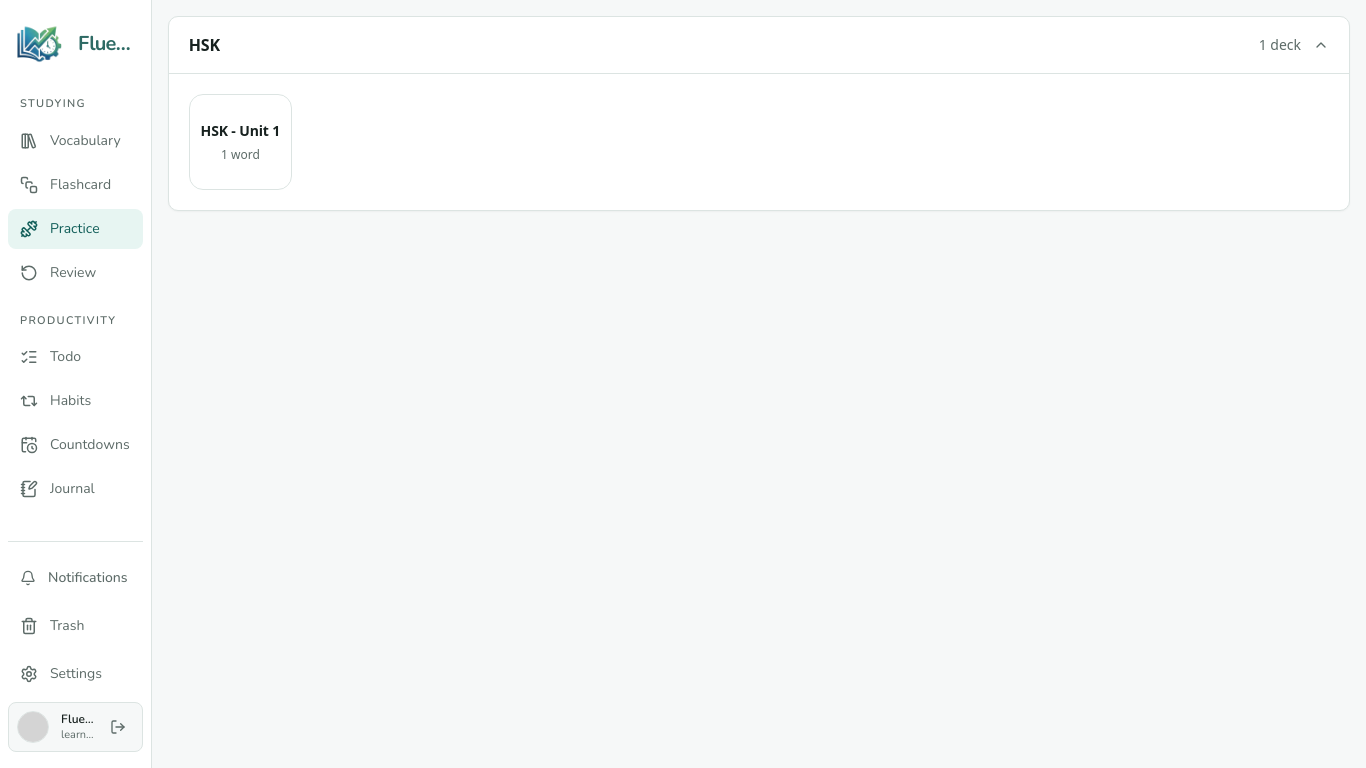
Test: FluentA app routes › opens the modal-first Practice flow and starts the selected deck directly
Click the button with aria-label "Practice HSK - Unit 1, 1 words".
click(240, 142)  # box left=189, top=94, right=292, bottom=190
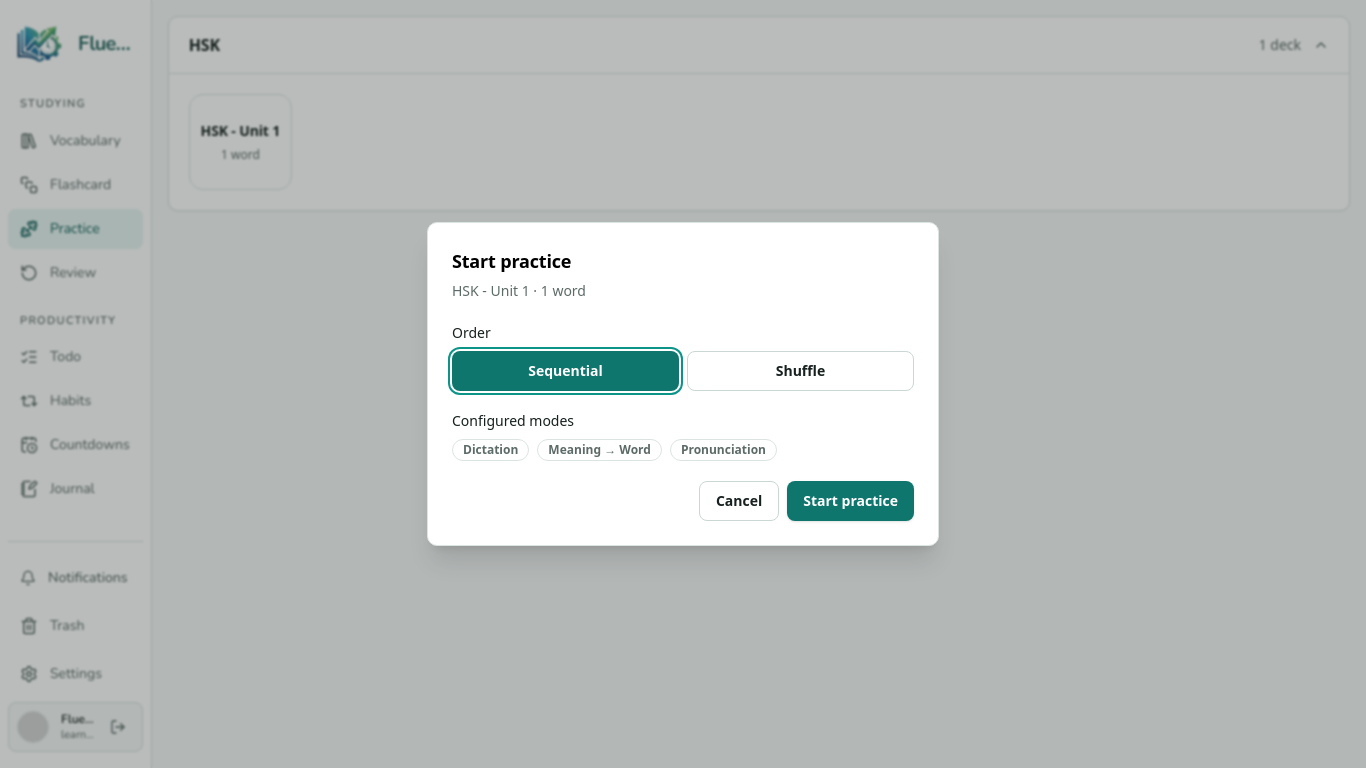
Expected: the heading "Start practice" is shown, left=452, top=249, right=571, bottom=273
Expected: the text "Dictation" is shown, left=452, top=439, right=529, bottom=461
Expected: the text "Meaning → Word" is shown, left=537, top=439, right=662, bottom=461
Click the button "Shuffle".
click(800, 371)  # box left=687, top=351, right=914, bottom=391
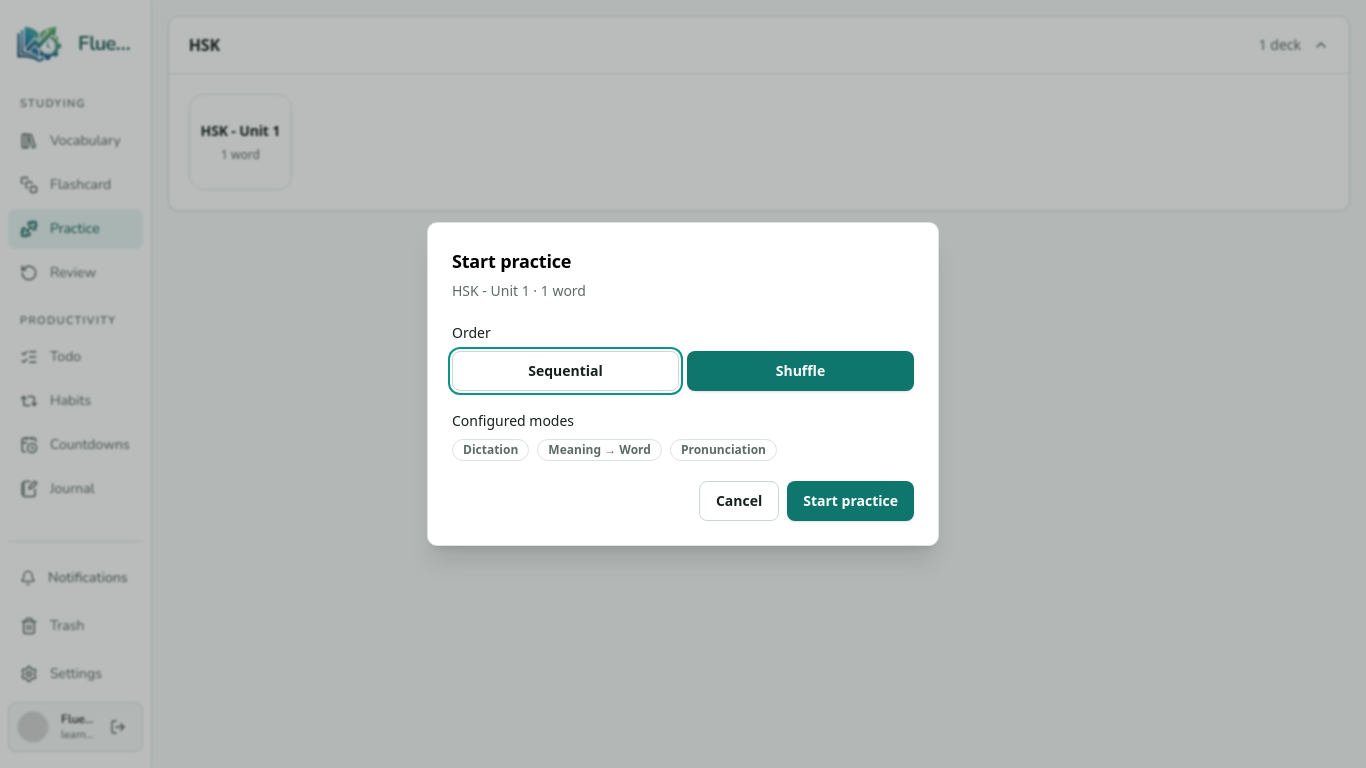
Click the button "Start practice".
click(851, 501)  # box left=787, top=481, right=914, bottom=521
(page scrolled)
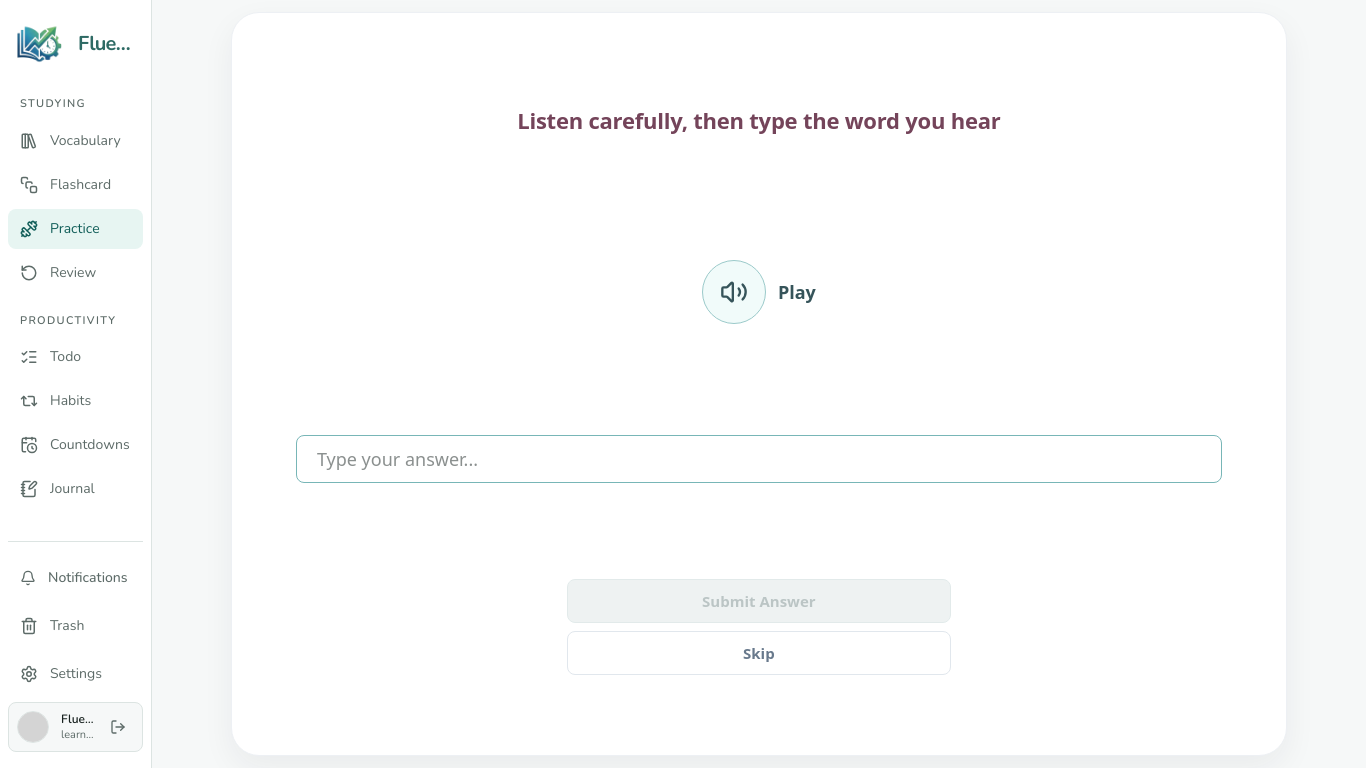
Expected: the element with test id "active-practice-card" is shown
